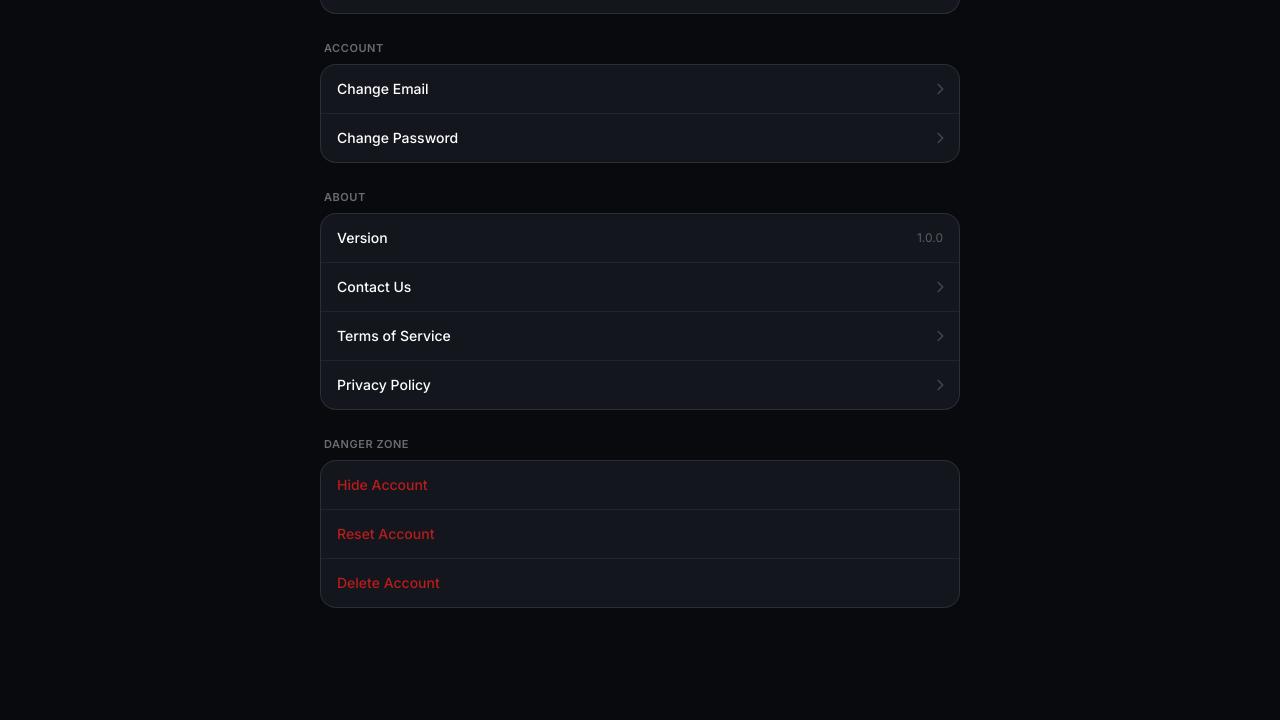
ProfileConfigurePage — danger zone › shows an incorrect-password message on a 401 and lets the user retry
(page scrolled)
Click the button "Hide Account" at (382, 484), box [321,461,959,509]
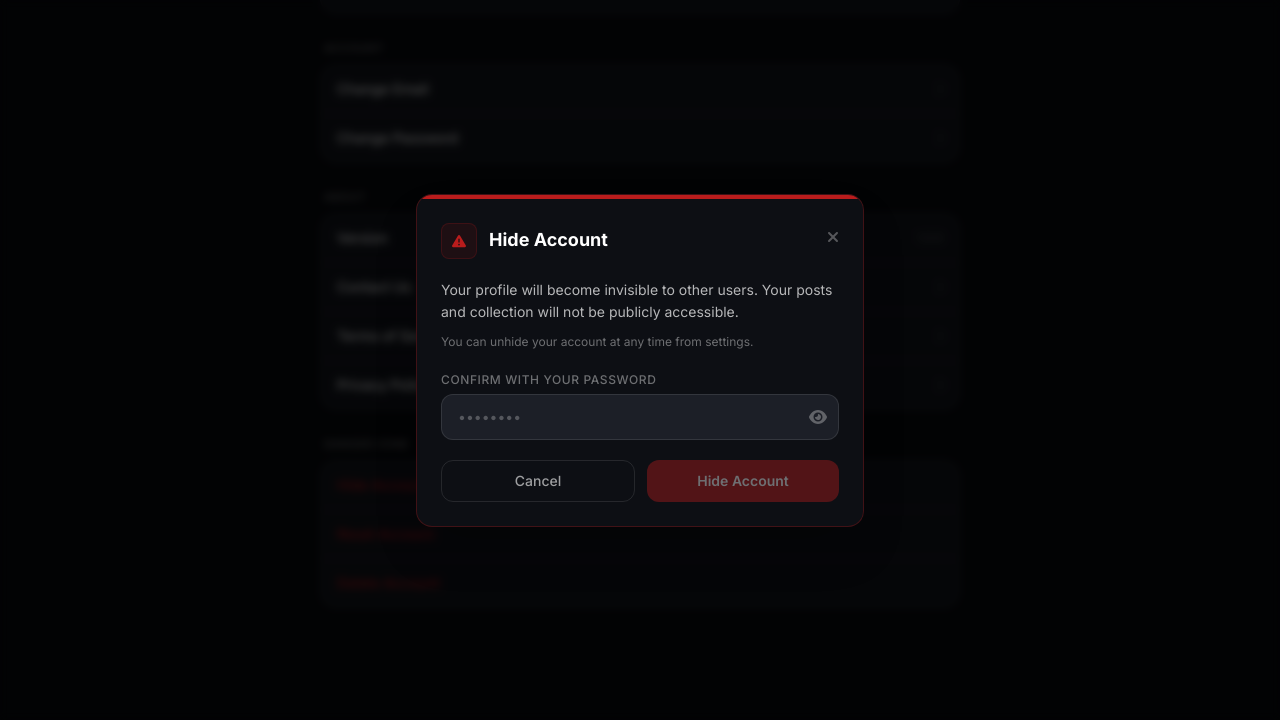
Type "wrongpass" into the password field with placeholder "••••••••" at (640, 416), box [441,394,839,440]
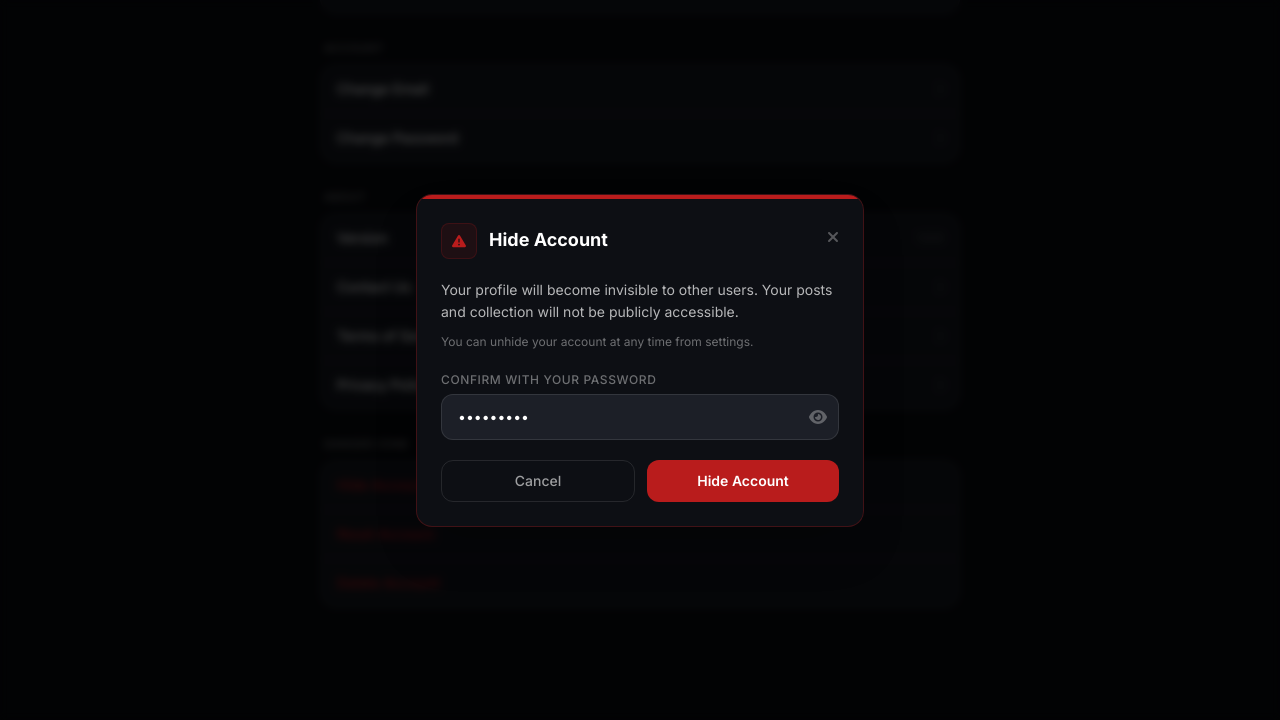
Click the button "Hide Account" at (743, 480), box [647,460,839,502]
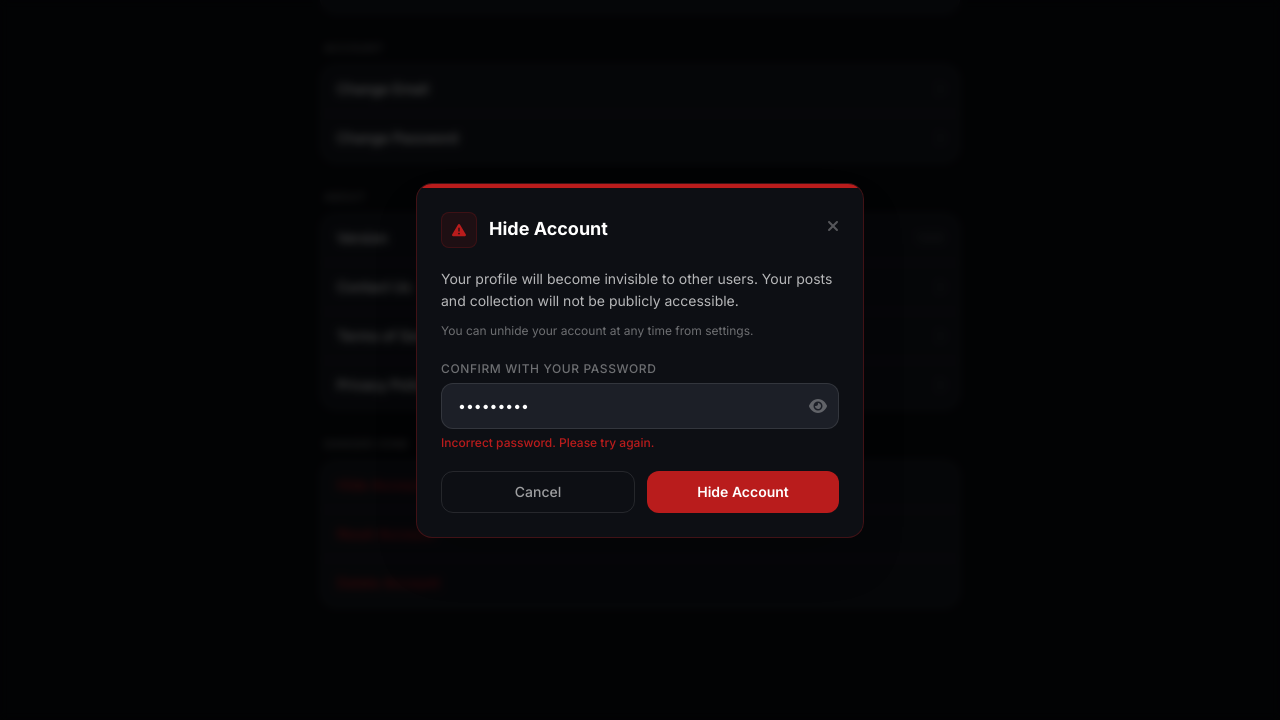
Expected: the text "Incorrect password. Please try again." is shown, [441,434,654,450]
